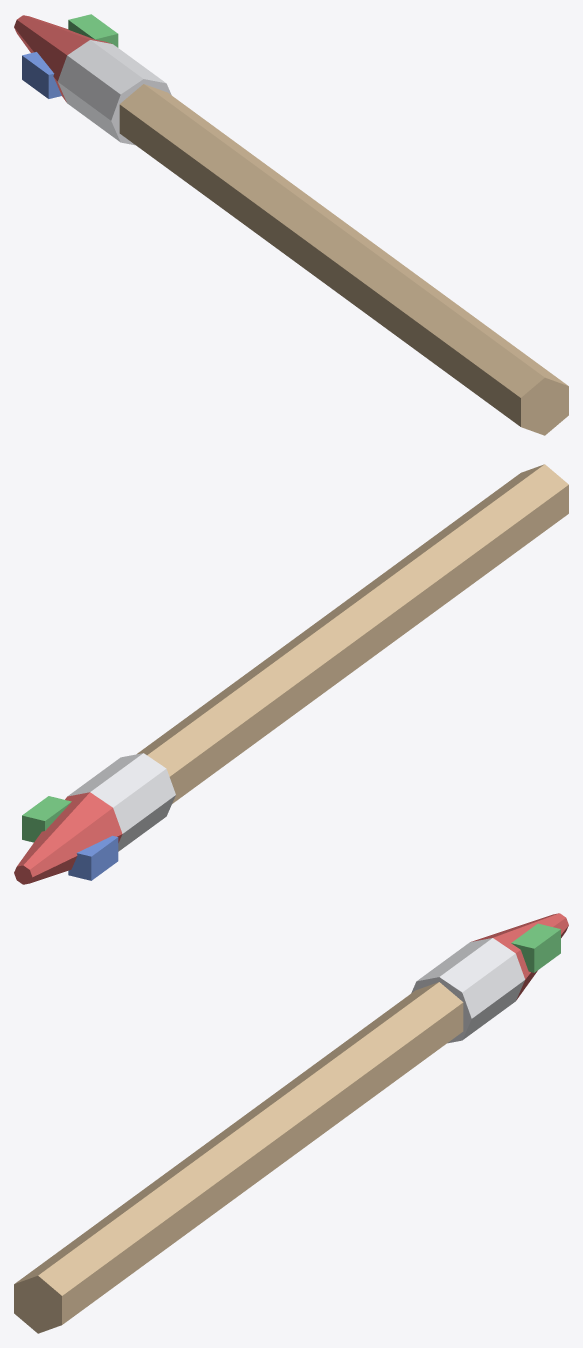
The model's file is brush_held.gltf.
The picture shows the model from 3 angles, top to bottom: view 1: azimuth 30°, elevation 25°; view 2: azimuth 150°, elevation 25°; view 3: azimuth 330°, elevation 25°; orthographic projection.
Parts seen in each view (by area): view 1: palette_brush_held; view 2: palette_brush_held; view 3: palette_brush_held.
Boxes of the visible parts, <box> form: palette_brush_held: <box>14,14,568,435</box>; palette_brush_held: <box>14,464,568,884</box>; palette_brush_held: <box>14,913,568,1333</box>.
Bounding box in the file's own units: 0.03 × 0.028 × 0.39.
